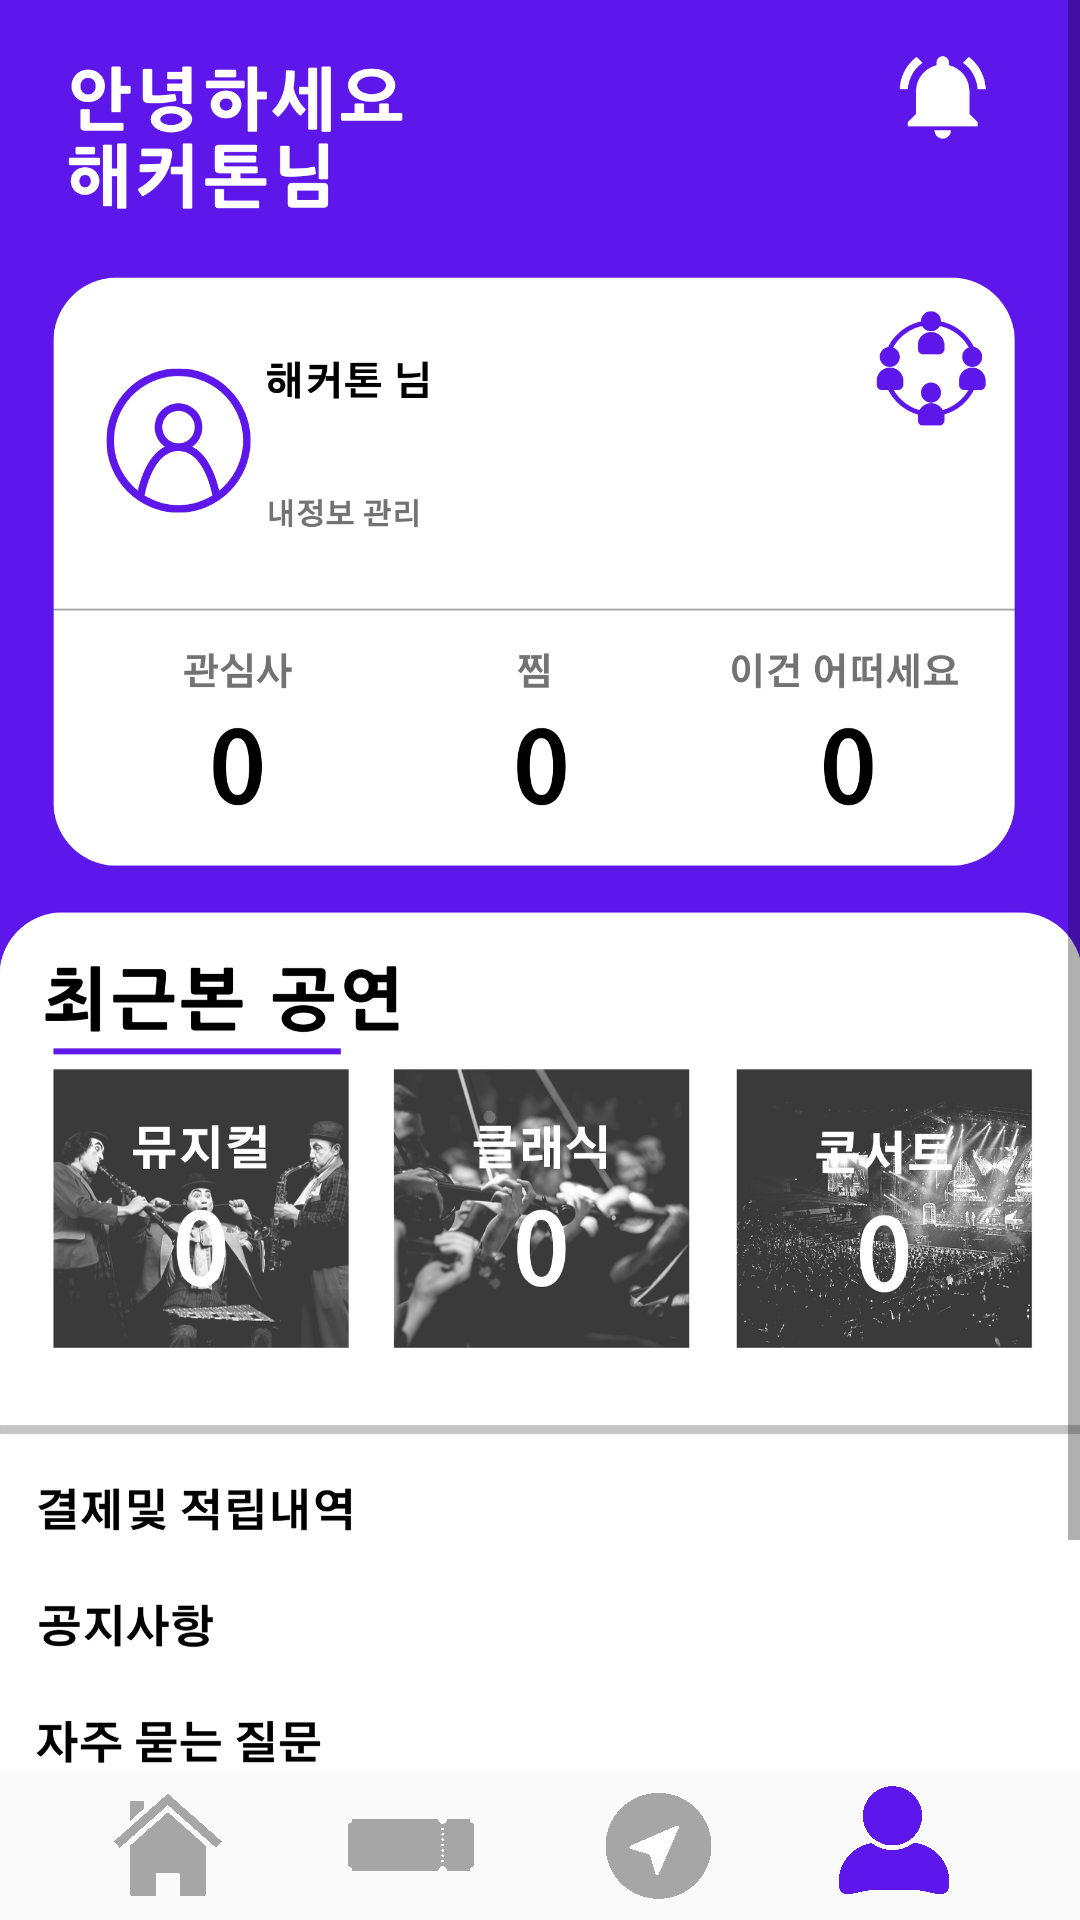

Icon click points for this 1080 × 1920 phone screenshot, format (x=x, y=y):
home: (x=168, y=1845)
myinfo: (x=894, y=1840)
ticket: (x=411, y=1845)
